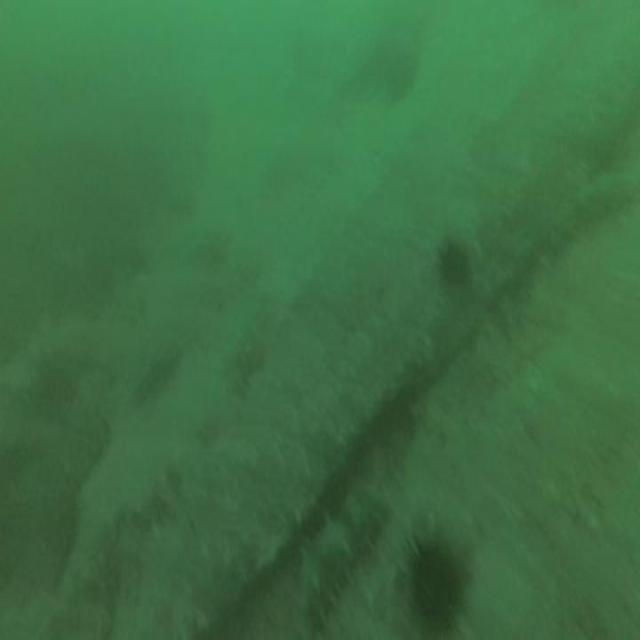echinus: (412, 544, 460, 624), (438, 240, 468, 292)
holothurian: (294, 478, 383, 634)
